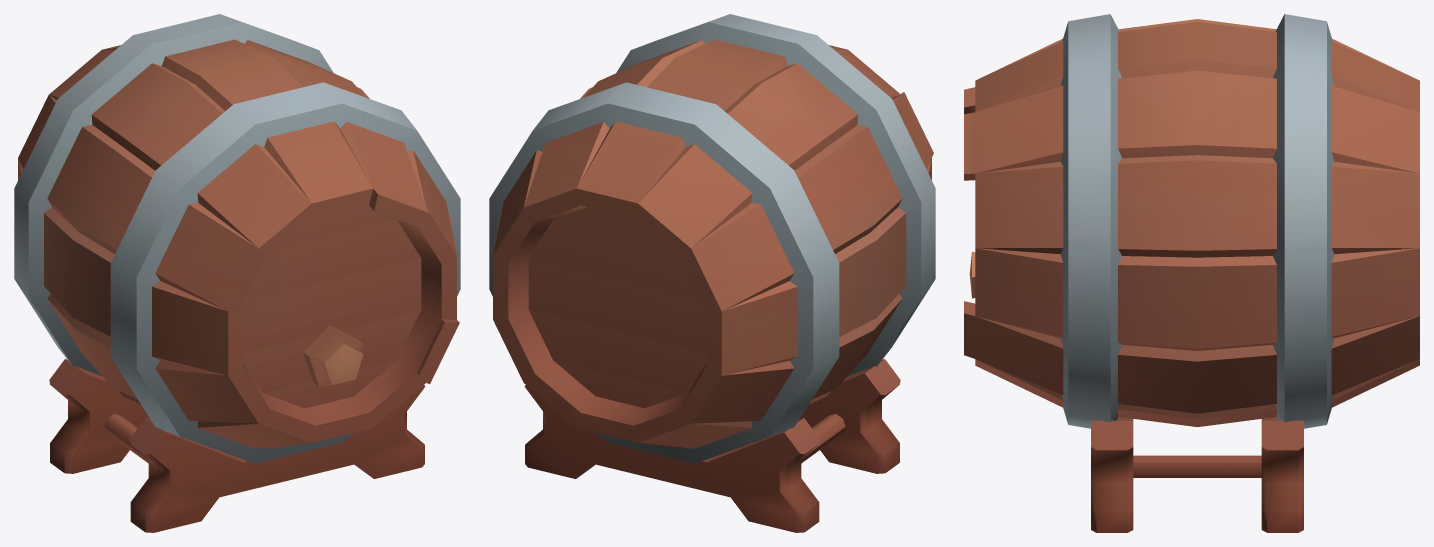
The model's file is keg.glb.
The picture shows the model from 3 angles, left to right: view 1: azimuth 30°, elevation 25°; view 2: azimuth 150°, elevation 25°; view 3: azimuth 270°, elevation 25°; orthographic projection. The views are drawn at different scales.
Parts seen in each view (by area): view 1: keg; view 2: keg; view 3: keg.
Boxes of the visible parts, x1,y1,x2,y2 form: keg: (14,14,460,532); keg: (489,14,935,532); keg: (964,14,1419,532).
Size of the model in its own units: 1.8 by 2.05 by 2.
1 material, 1 textured.
